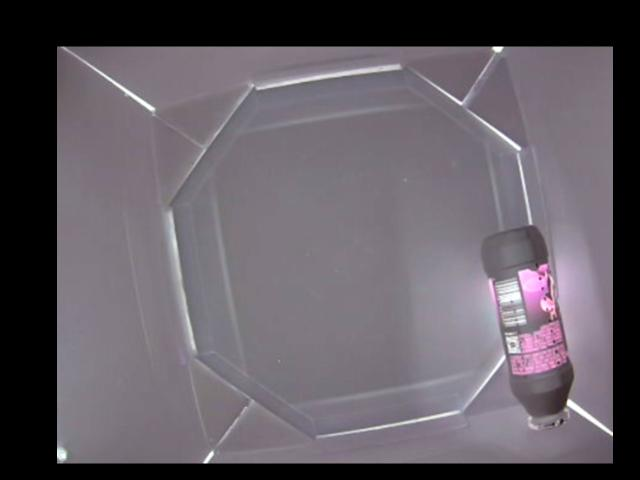Bottle: (480, 224, 578, 430)
